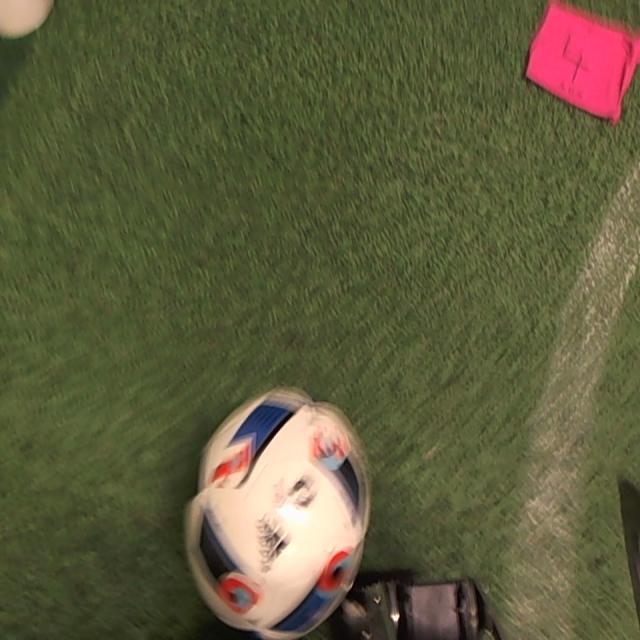ball: (183, 388, 371, 640)
